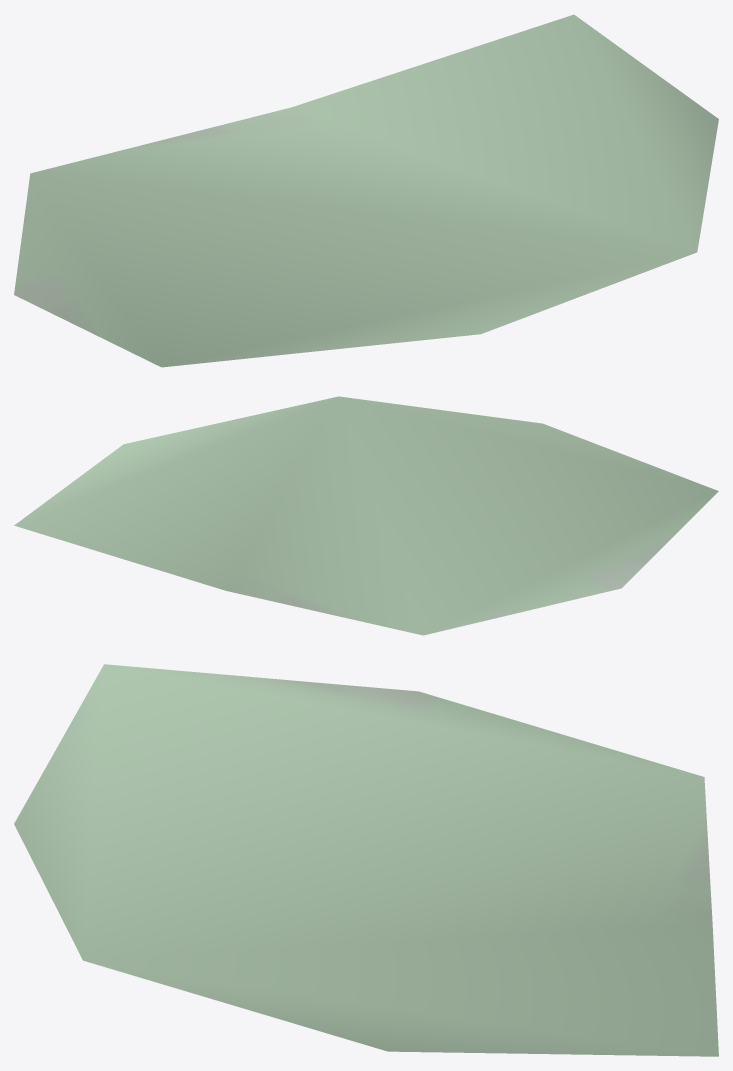
File: TROLLHOLE02_HOLECAP130.fbx
3 renders of one model, top to bottom at view 1: azimuth 30°, elevation 25°; view 2: azimuth 150°, elevation 25°; view 3: azimuth 270°, elevation 25°, orthographic. The views are drawn at different scales.
Parts seen in each view (by area): view 1: TROLLHOLE02_HOLECAP130; view 2: TROLLHOLE02_HOLECAP130; view 3: TROLLHOLE02_HOLECAP130.
Boxes of the visible parts, bbox=[...] form: TROLLHOLE02_HOLECAP130: bbox=[14, 14, 718, 367]; TROLLHOLE02_HOLECAP130: bbox=[14, 396, 718, 635]; TROLLHOLE02_HOLECAP130: bbox=[14, 664, 718, 1056].
Bounding box in the file's own units: 30584 × 1491 × 23926.
1 material, 1 textured.
